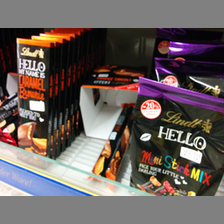chocolate: (130, 72, 224, 197), (16, 37, 54, 150)
